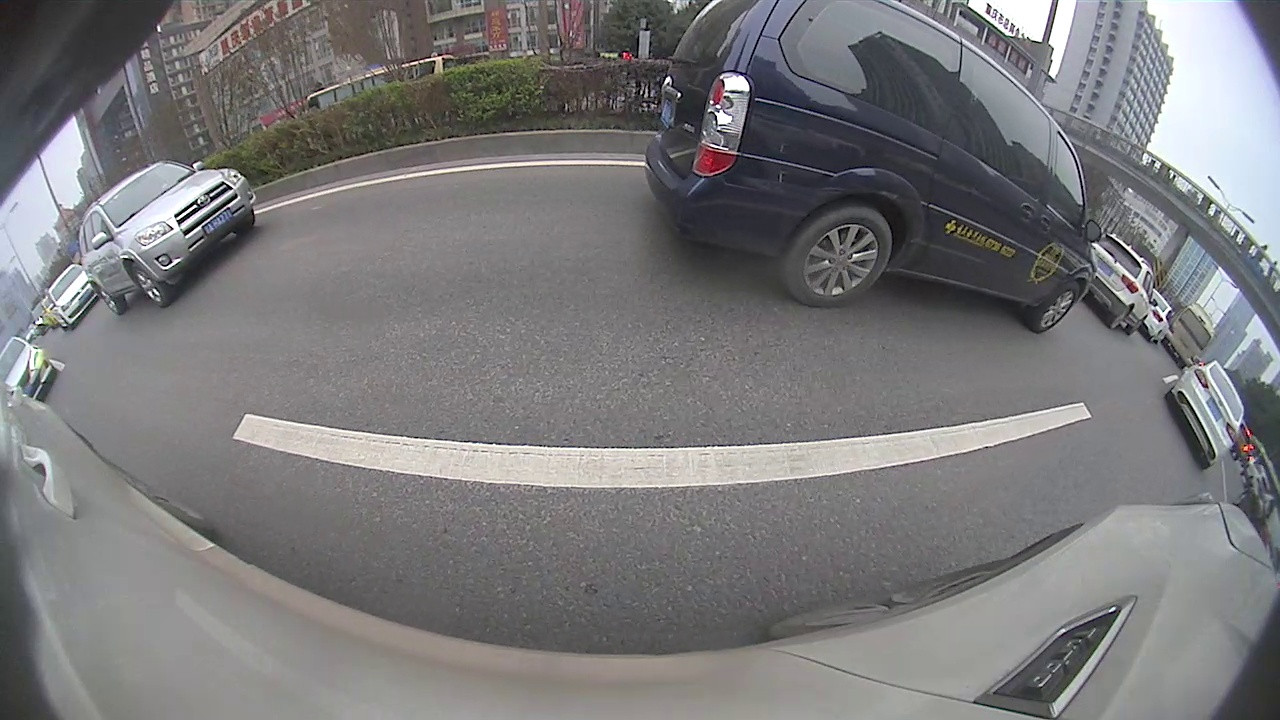car: (644, 1, 1104, 337), (77, 161, 259, 317), (1161, 359, 1247, 472), (1093, 234, 1159, 334)
front: (1031, 277, 1080, 332), (125, 263, 168, 307)
rear: (784, 206, 893, 307)
